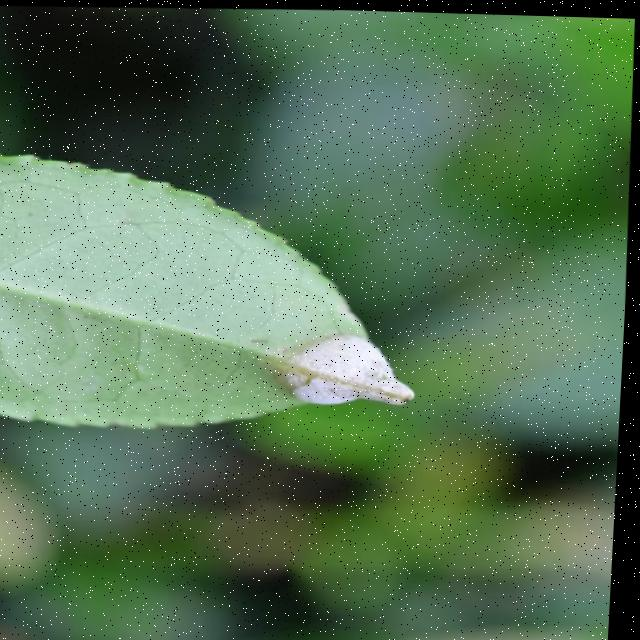Tea cake: (280, 337, 419, 431)
